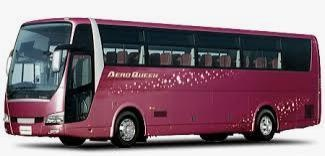bus: (3, 18, 319, 144)
